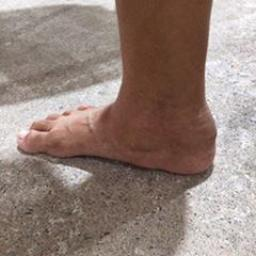Medial View -Right Foot-: (9, 49, 224, 181)
